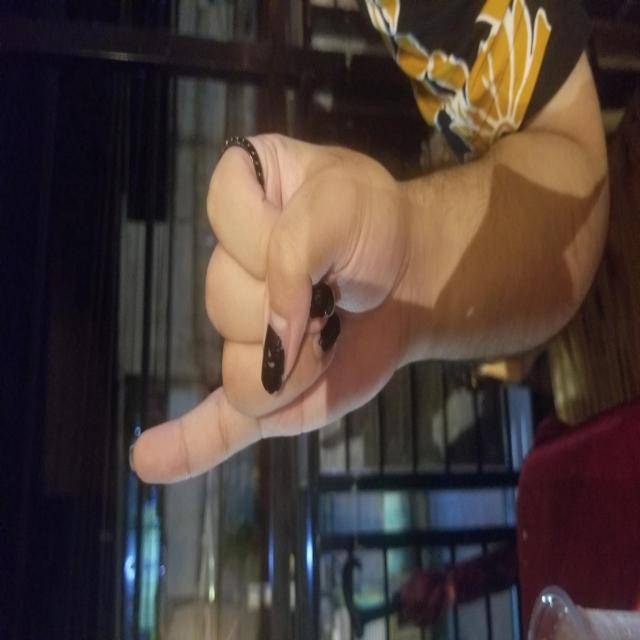I: (151, 129, 507, 401)
